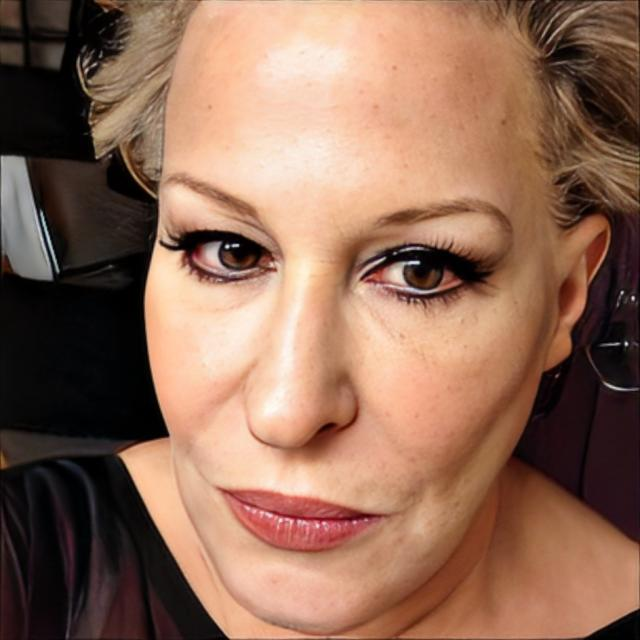content: (142, 2, 554, 636)
